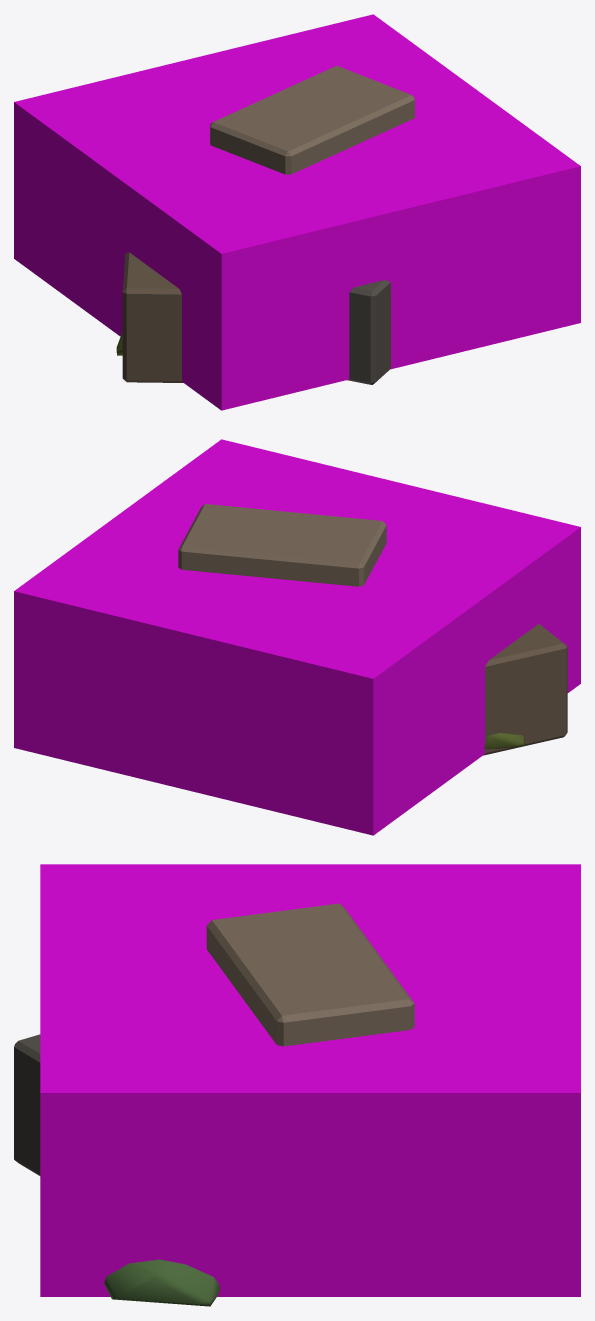
The model's file is PRP_Rubble_Masonry_A.glb.
The picture shows the model from 3 angles, top to bottom: view 1: azimuth 30°, elevation 25°; view 2: azimuth 150°, elevation 25°; view 3: azimuth 270°, elevation 25°; orthographic projection. The views are drawn at different scales.
Parts seen in each view (by area): view 1: COL_Pile, PICK_Stone, PRP_Rubble_Masonry_A_Mesh; view 2: COL_Pile, PICK_Stone, PRP_Rubble_Masonry_A_Mesh; view 3: COL_Pile, PICK_Stone, PRP_Rubble_Masonry_A_Mesh.
Boxes of the visible parts, x1,y1,x2,y2 form: COL_Pile: [14, 14, 580, 410]; PICK_Stone: [210, 65, 414, 174]; PRP_Rubble_Masonry_A_Mesh: [116, 252, 390, 384]; COL_Pile: [14, 439, 580, 835]; PICK_Stone: [178, 504, 386, 586]; PRP_Rubble_Masonry_A_Mesh: [483, 624, 567, 755]; COL_Pile: [40, 864, 580, 1296]; PICK_Stone: [206, 903, 414, 1046]; PRP_Rubble_Masonry_A_Mesh: [14, 1034, 219, 1306].
Size of the model in its own units: 1.41 by 0.6078 by 1.26.
